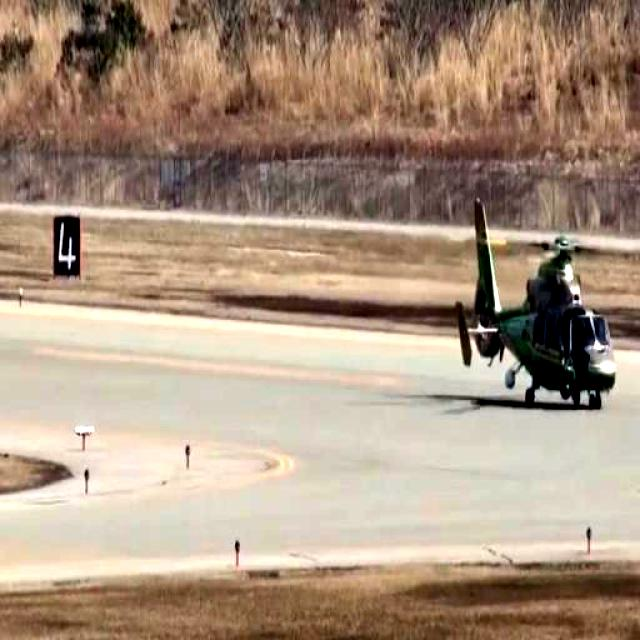drone: (454, 196, 618, 420)
